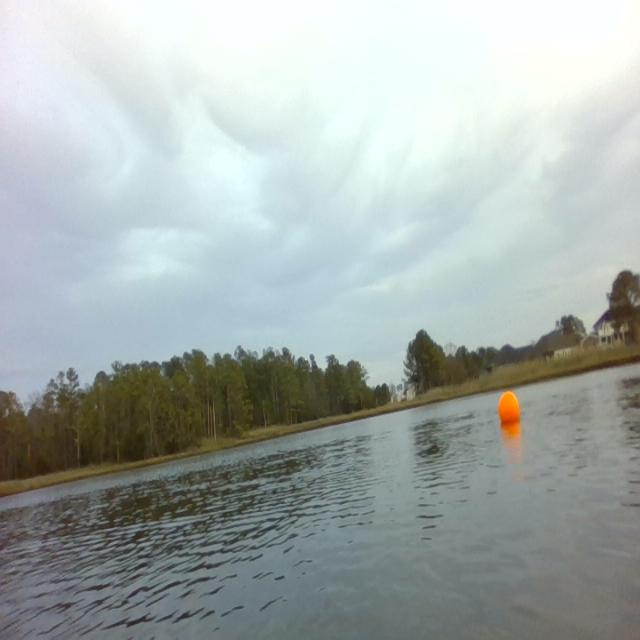Buoy: (496, 387, 522, 428)
